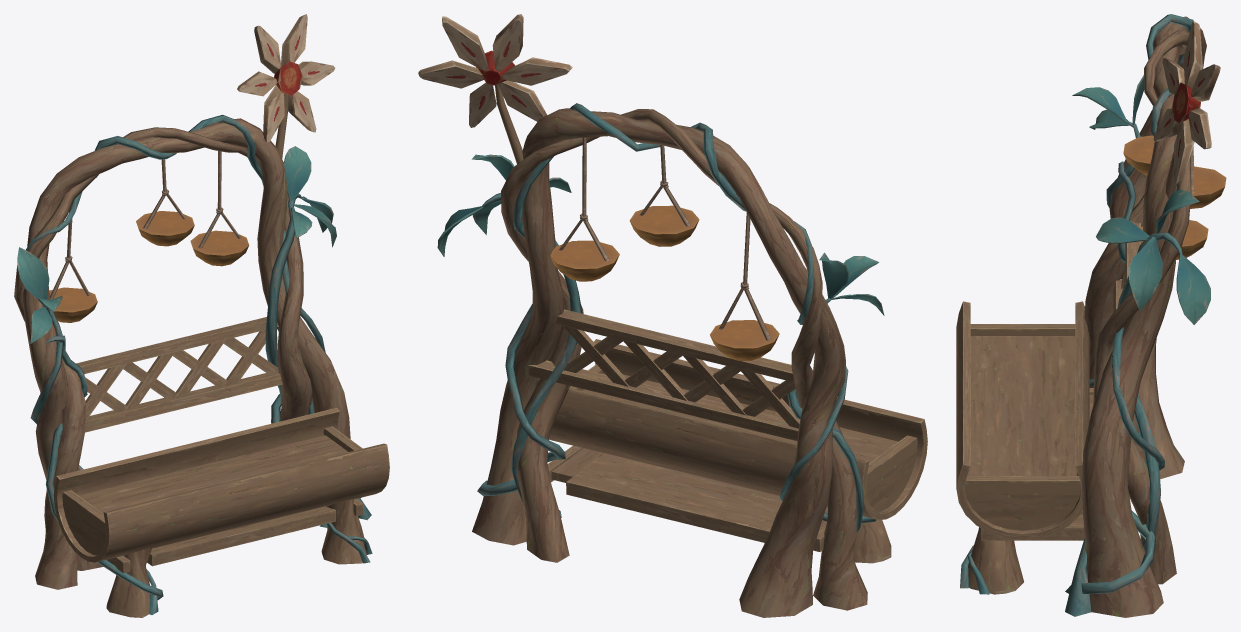
Rendered from Homeworld_Exterior_Common_Decoration_Gardenshelf_01_A_Lod0.fbx.
3 views of the same model, side by side, from view 1: azimuth 30°, elevation 25°; view 2: azimuth 150°, elevation 25°; view 3: azimuth 270°, elevation 25° (orthographic). The views are drawn at different scales.
Visible parts, largest first — view 1: Homeworld_Exterior_Common_Decoration_Gardenshelf_01_A_Lod0; view 2: Homeworld_Exterior_Common_Decoration_Gardenshelf_01_A_Lod0; view 3: Homeworld_Exterior_Common_Decoration_Gardenshelf_01_A_Lod0.
Part boxes in pixels (bbox=[...]): Homeworld_Exterior_Common_Decoration_Gardenshelf_01_A_Lod0: bbox=[14, 14, 389, 617]; Homeworld_Exterior_Common_Decoration_Gardenshelf_01_A_Lod0: bbox=[418, 14, 927, 617]; Homeworld_Exterior_Common_Decoration_Gardenshelf_01_A_Lod0: bbox=[956, 14, 1226, 617].
Bounding box in the file's own units: 3.05 × 3.89 × 1.7.
